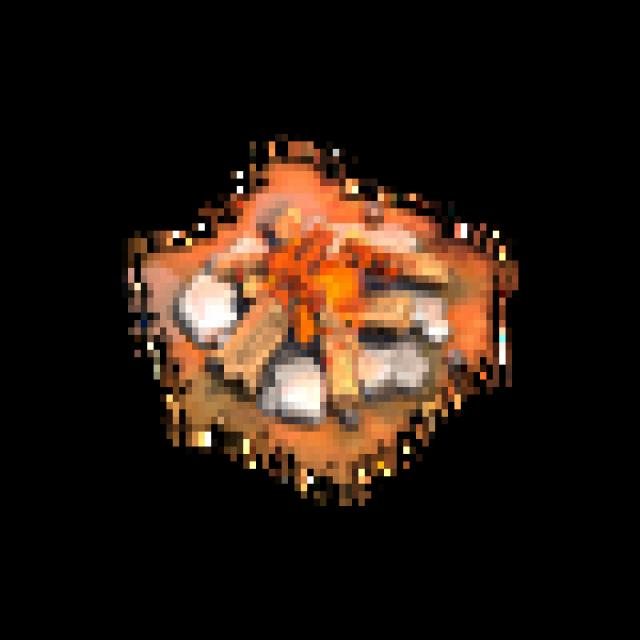army_camp: (121, 121, 524, 515)
